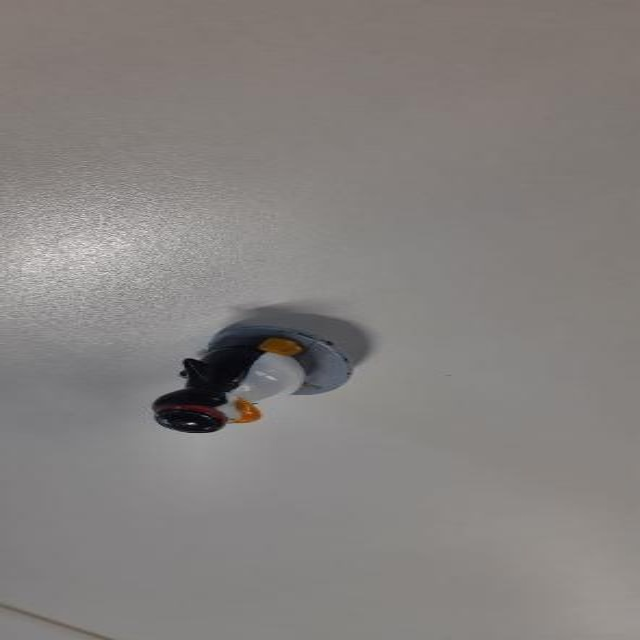Penguin: (143, 318, 377, 434)
